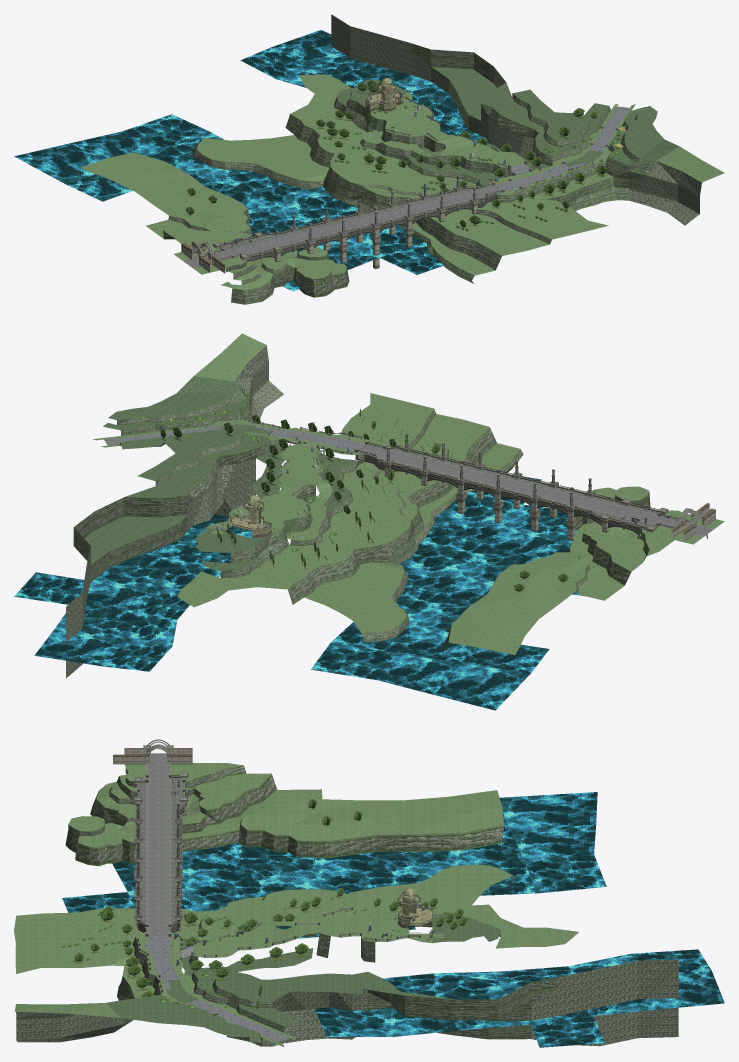
The model's file is East1.obj.
3 views of the same model, one above another, from view 1: azimuth 30°, elevation 25°; view 2: azimuth 150°, elevation 25°; view 3: azimuth 270°, elevation 25° (orthographic). The views are drawn at different scales.
Visible parts, largest first — view 1: Object.472, Object.300, Object.466, Object.474, Object.492, Object.478, Object.229, Object.69, Object.455, Object.277, Object.473, Object.295 (+68 smaller); view 2: Object.472, Object.492, Object.474, Object.480, Object.478, Object.454, Object.456, Object.455, Object.462, Object.485, Object.490, Object.461 (+69 smaller); view 3: Object.472, Object.492, Object.465, Object.462, Object.478, Object.480, Object.300, Object.69, Object.474, Object.295, Object.293, Object.455 (+95 smaller).
Part boxes in pixels (box(x1,y1,x2,y2)): Object.472: box(14, 143, 102, 184); Object.300: box(646, 161, 701, 225); Object.466: box(379, 227, 444, 274); Object.474: box(271, 30, 342, 65); Object.492: box(70, 131, 161, 159); Object.478: box(162, 114, 211, 166); Object.229: box(431, 49, 493, 93); Object.69: box(109, 158, 164, 191); Object.455: box(232, 186, 314, 221); Object.277: box(591, 161, 648, 204); Object.473: box(240, 47, 307, 78); Object.295: box(379, 34, 411, 74); Object.472: box(434, 663, 530, 710); Object.492: box(378, 653, 460, 694); Object.474: box(34, 629, 124, 666); Object.480: box(93, 563, 220, 591); Object.478: box(311, 628, 415, 669); Object.454: box(403, 530, 503, 568); Object.456: box(422, 504, 522, 544); Object.455: box(404, 554, 493, 603); Object.462: box(463, 538, 565, 578); Object.485: box(85, 589, 181, 616); Object.490: box(461, 644, 549, 673); Object.461: box(484, 516, 567, 553); Object.472: box(499, 792, 597, 830); Object.492: box(511, 824, 596, 860); Object.465: box(322, 1007, 462, 1036); Object.462: box(182, 852, 322, 880); Object.478: box(484, 861, 606, 893); Object.480: box(434, 971, 530, 1024); Object.300: box(16, 1012, 90, 1042); Object.69: box(405, 796, 501, 832); Object.474: box(652, 970, 724, 1009); Object.295: box(558, 969, 599, 1015); Object.293: box(637, 959, 678, 999); Object.455: box(259, 856, 390, 890).
Size of the model in its own units: 244 by 44.55 by 249.
27 materials, 27 textured.
